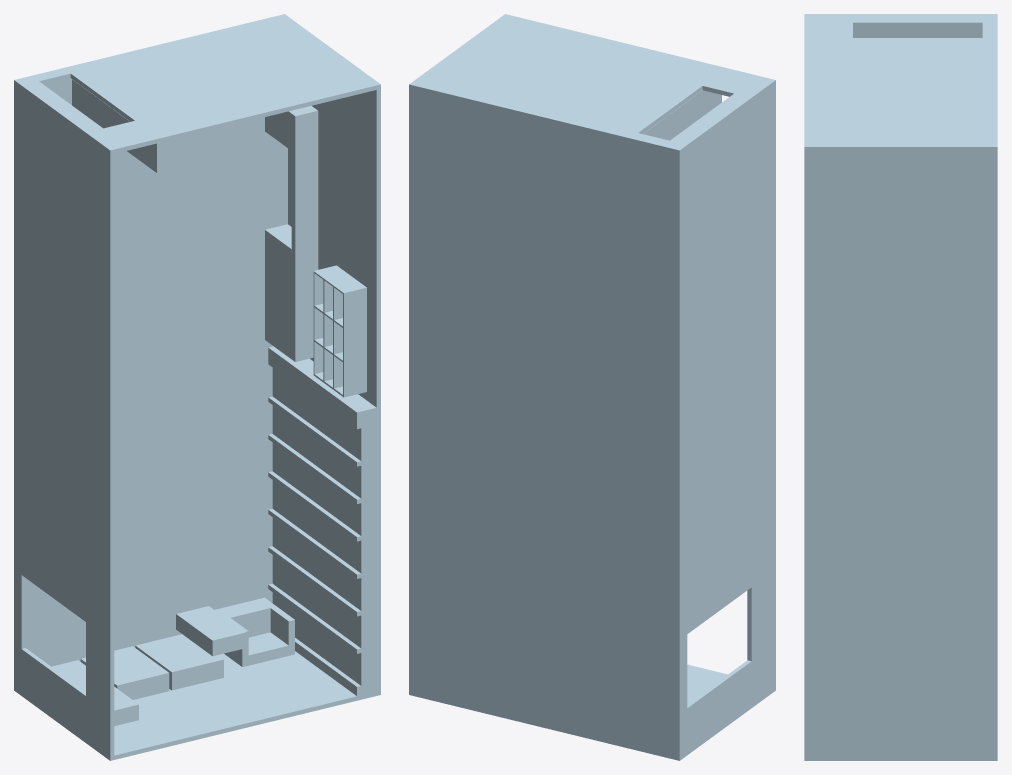
The picture shows the model from 3 angles, left to right: view 1: azimuth 30°, elevation 25°; view 2: azimuth 150°, elevation 25°; view 3: azimuth 270°, elevation 25°; orthographic projection.
Parts seen in each view (by area): view 1: Part 1; view 2: Part 1; view 3: Part 1.
Part boxes in pixels (bbox=[...]): Part 1: bbox=[14, 14, 380, 760]; Part 1: bbox=[409, 14, 775, 760]; Part 1: bbox=[804, 14, 997, 760].
Bounding box in the file's own units: 0.1286 × 0.2772 × 0.0792.
